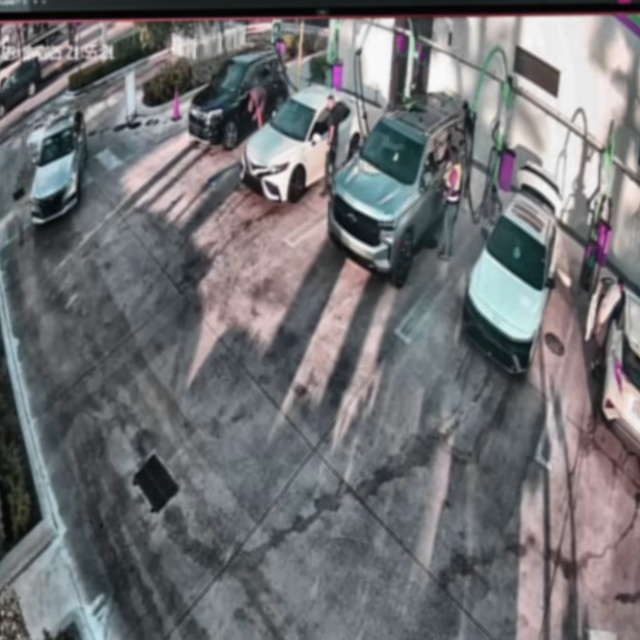Car: (330, 93, 466, 285), (463, 162, 560, 381), (242, 93, 368, 216), (192, 51, 288, 160)
